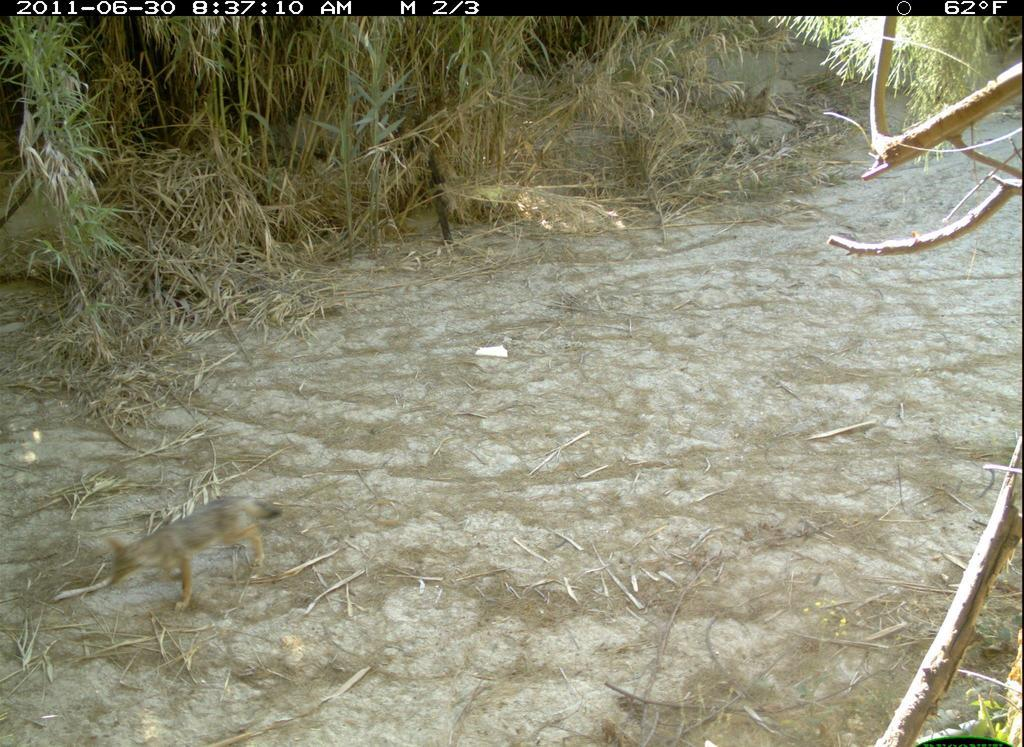coyote: (77, 485, 283, 623)
